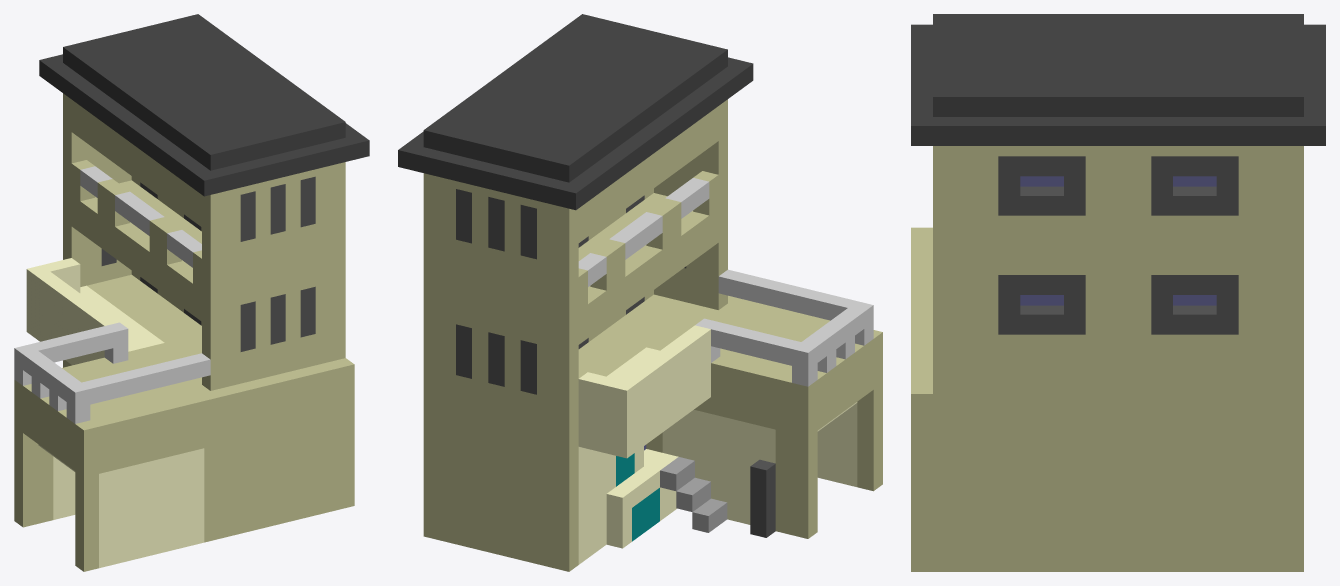
The model's file is yoshida31.fbx.
3 renders of one model, left to right at view 1: azimuth 30°, elevation 25°; view 2: azimuth 150°, elevation 25°; view 3: azimuth 270°, elevation 25°, orthographic. The views are drawn at different scales.
Visible parts, largest first — view 1: Default; view 2: Default; view 3: Default.
Part boxes in pixels (left/top/right/bottom): Default: left=14, top=14, right=369, bottom=571; Default: left=398, top=14, right=882, bottom=571; Default: left=911, top=14, right=1325, bottom=571.
Size of the model in its own units: 19 by 24 by 19.
1 material, 1 textured.
